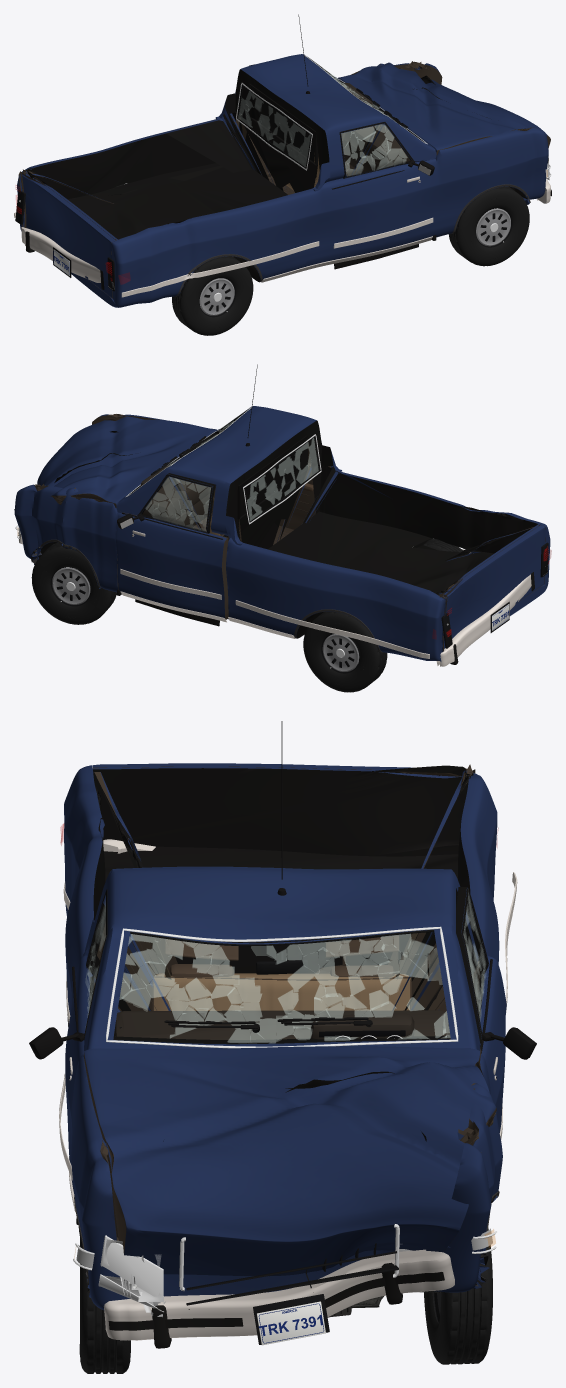
The model's file is pickup87_front_corner_d1.glb.
The picture shows the model from 3 angles, top to bottom: view 1: azimuth 30°, elevation 25°; view 2: azimuth 150°, elevation 25°; view 3: azimuth 270°, elevation 25°; orthographic projection. The views are drawn at different scales.
Visible parts, largest first — view 1: Body, Hood, Wheel_FR_mesh, Wheel_RR_mesh, Tailgate, Door_FR, Glass, Interior, Trim, Trim_FR, Glass_FR, Bumper_R (+1 smaller); view 2: Body, Hood, Door_FL, Tailgate, Wheel_RL_mesh, Wheel_FL_mesh, Glass, Interior, Trim, Trim_FL, Glass_FL, Bumper_R (+2 smaller); view 3: Body, Hood, Interior, Glass, Bumper_F, Ends, Wheel_FL_mesh, Door_FL, Wheel_FR_mesh, Trim, Trim_FR, Door_FR (+3 smaller).
Part boxes in pixels (<box>): Body: <box>17,54,548,307</box>; Hood: <box>338,62,550,155</box>; Wheel_FR_mesh: <box>448,186,529,266</box>; Wheel_RR_mesh: <box>172,256,253,335</box>; Tailgate: <box>20,172,115,298</box>; Door_FR: <box>325,121,435,259</box>; Glass: <box>236,55,427,170</box>; Interior: <box>286,83,408,190</box>; Trim: <box>14,14,530,297</box>; Trim_FR: <box>326,122,434,269</box>; Glass_FR: <box>341,124,411,178</box>; Bumper_R: <box>21,227,104,289</box>; Body: <box>14,406,550,661</box>; Hood: <box>36,416,216,507</box>; Door_FL: <box>116,473,228,619</box>; Tailgate: <box>443,525,545,651</box>; Wheel_RL_mesh: <box>303,611,387,692</box>; Wheel_FL_mesh: <box>31,542,116,624</box>; Glass: <box>125,407,321,524</box>; Interior: <box>140,465,220,535</box>; Trim: <box>32,364,472,658</box>; Trim_FL: <box>117,474,226,626</box>; Glass_FL: <box>141,474,213,533</box>; Bumper_R: <box>436,572,534,666</box>; Body: <box>64,764,502,1310</box>; Hood: <box>84,1046,496,1276</box>; Interior: <box>114,935,449,1039</box>; Glass: <box>106,926,458,1048</box>; Bumper_F: <box>104,1249,454,1348</box>; Ends: <box>73,1224,496,1345</box>; Wheel_FL_mesh: <box>424,1228,492,1364</box>; Door_FL: <box>456,887,506,1132</box>; Wheel_FR_mesh: <box>79,1232,130,1373</box>; Trim: <box>63,721,517,1298</box>; Trim_FR: <box>29,889,107,1212</box>; Door_FR: <box>65,888,107,1186</box>.
Size of the model in its own units: 4.97 by 2.56 by 2.34.
Materials: 34 (5 with a texture image).
